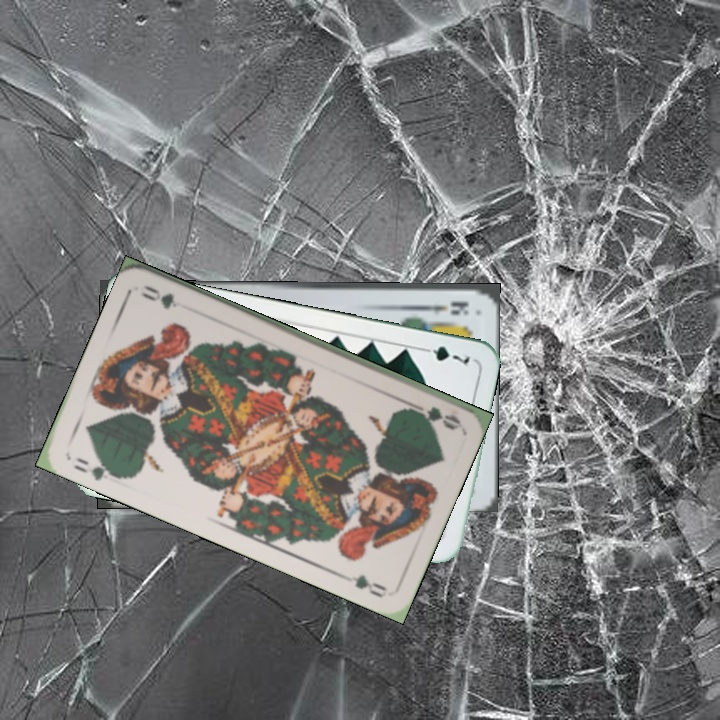EK: (414, 298, 471, 317)
G7: (416, 342, 472, 369)
GO: (402, 397, 462, 433), (69, 453, 121, 483)
